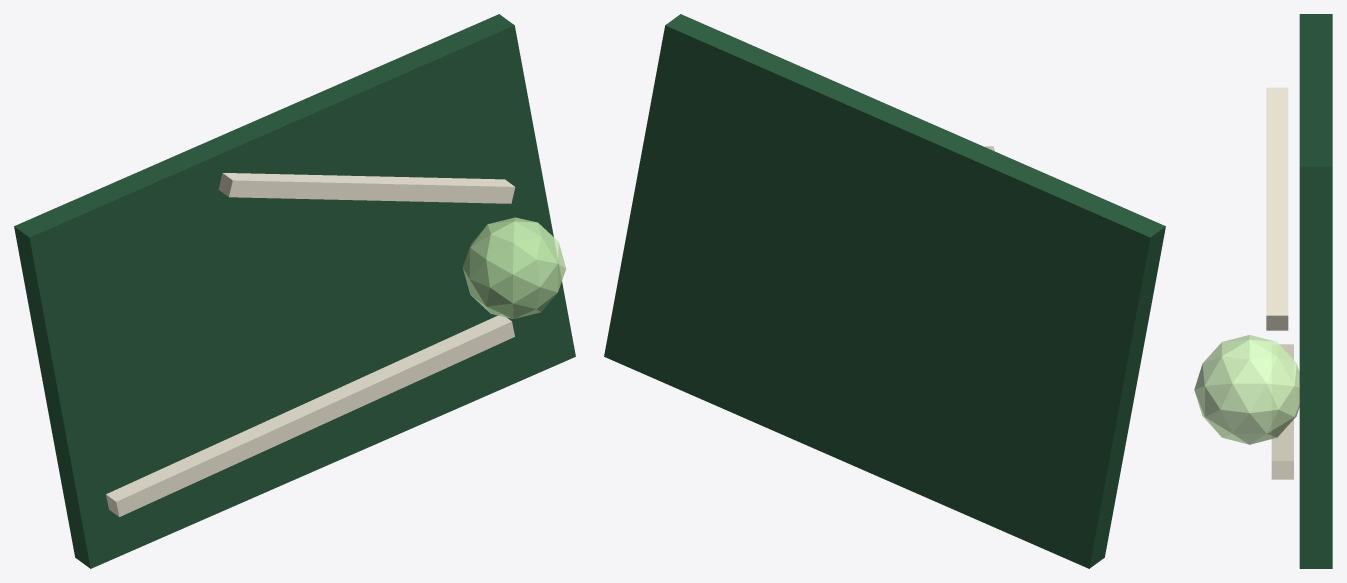
The model's file is 02_world_prop_polish.glb.
3 renders of one model, left to right at view 1: azimuth 30°, elevation 25°; view 2: azimuth 150°, elevation 25°; view 3: azimuth 270°, elevation 25°, orthographic. The views are drawn at different scales.
Parts seen in each view (by area): view 1: object_overlay_plate, edge_wear_a, glow_socket, edge_wear_b; view 2: object_overlay_plate; view 3: object_overlay_plate, glow_socket, edge_wear_b, edge_wear_a.
Part boxes in pixels (x1=…): object_overlay_plate: x1=14, y1=14, x2=575, y2=568; edge_wear_a: x1=106, y1=314, x2=514, y2=516; glow_socket: x1=462, y1=217, x2=566, y2=318; edge_wear_b: x1=218, y1=173, x2=515, y2=203; object_overlay_plate: x1=604, y1=14, x2=1165, y2=568; object_overlay_plate: x1=1299, y1=14, x2=1332, y2=568; glow_socket: x1=1194, y1=335, x2=1299, y2=444; edge_wear_b: x1=1266, y1=87, x2=1288, y2=330; edge_wear_a: x1=1271, y1=344, x2=1293, y2=479.
Size of the model in its own units: 1.22 by 0.9375 by 0.25.
